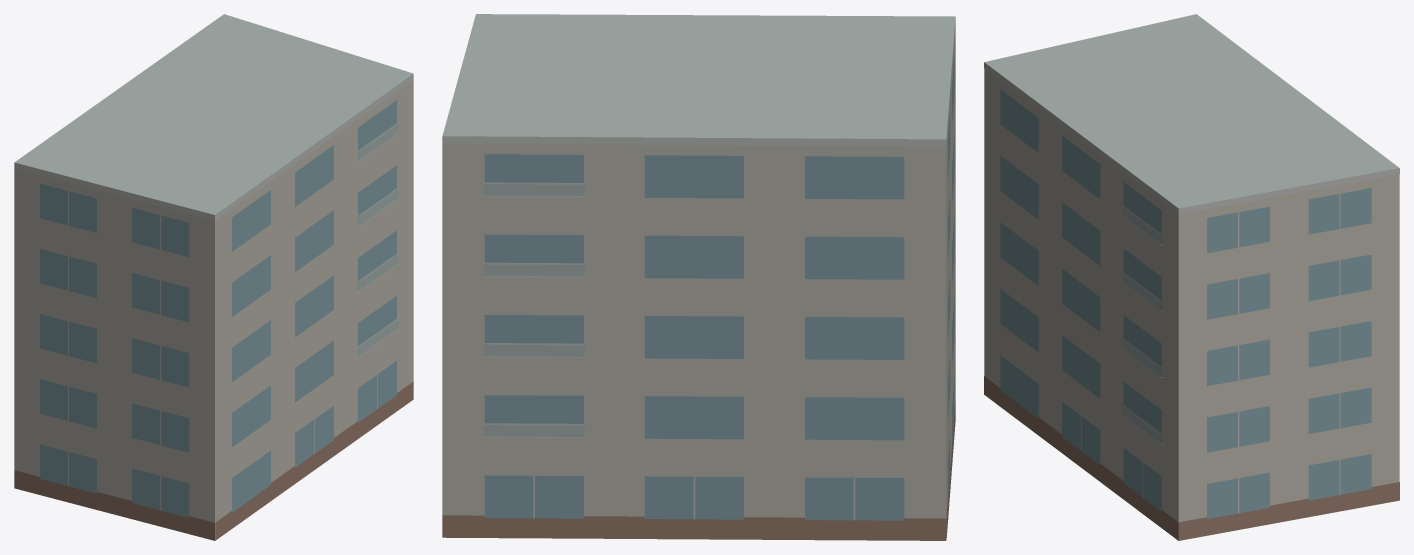
File: survey-upis-32936846.glb
3 views of the same model, side by side, from view 1: azimuth 30°, elevation 25°; view 2: azimuth 150°, elevation 25°; view 3: azimuth 270°, elevation 25° (orthographic). The views are drawn at different scales.
Parts seen in each view (by area): view 1: survey-upis-32936846.tmp; view 2: survey-upis-32936846.tmp; view 3: survey-upis-32936846.tmp.
Boxes of the visible parts, <box> form: survey-upis-32936846.tmp: <box>14,14,413,540</box>; survey-upis-32936846.tmp: <box>442,14,955,540</box>; survey-upis-32936846.tmp: <box>984,14,1399,540</box>.
Bounding box in the file's own units: 16.57 × 13.2 × 14.97.
